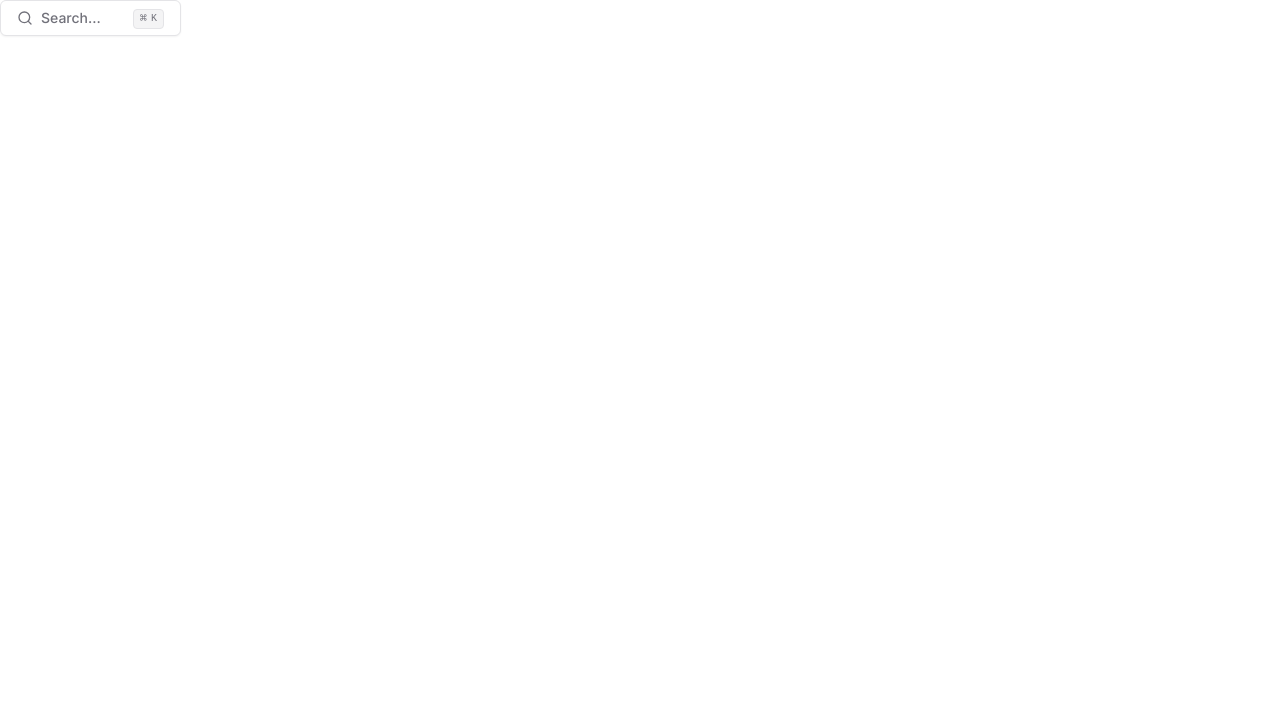
it: GlobalSearch › it displays different categories in the search results
This screenshot has width=1280, height=720.
Type keys "{Meta>}{k}{/Meta}"
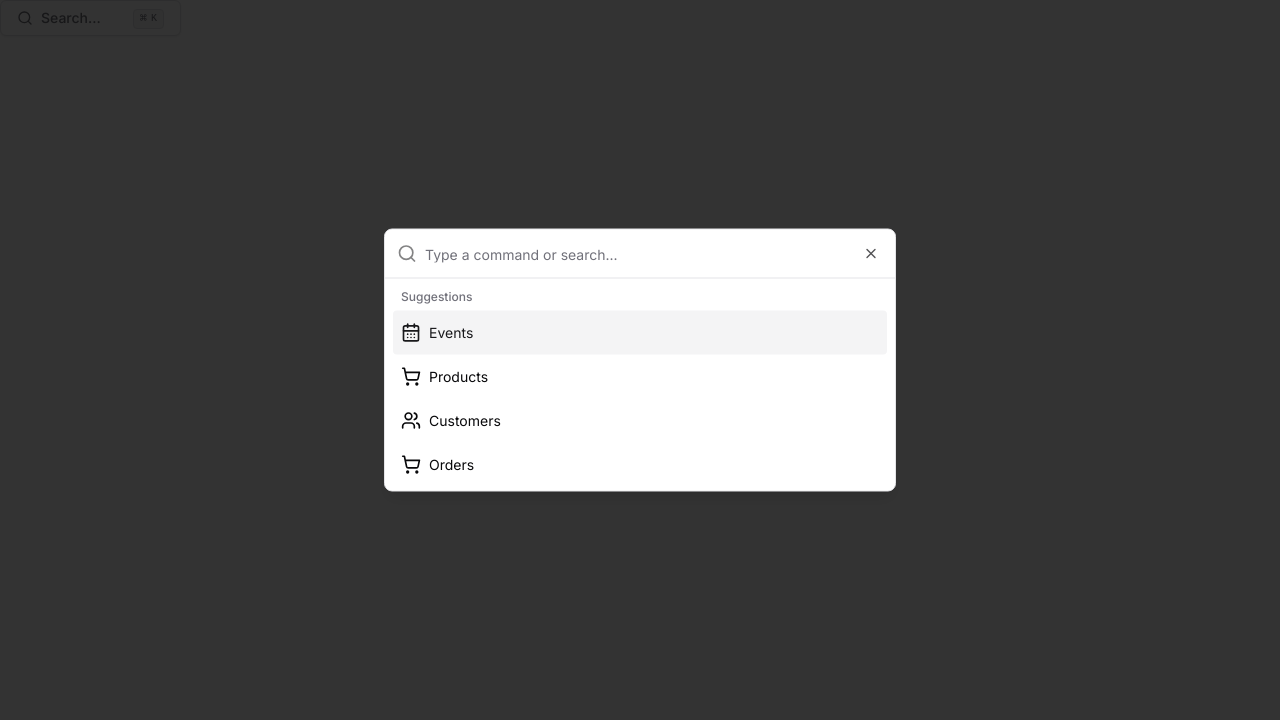
In the dropdown with placeholder "Type a command or search...": (654, 254) [425,230,883,278], type "show"
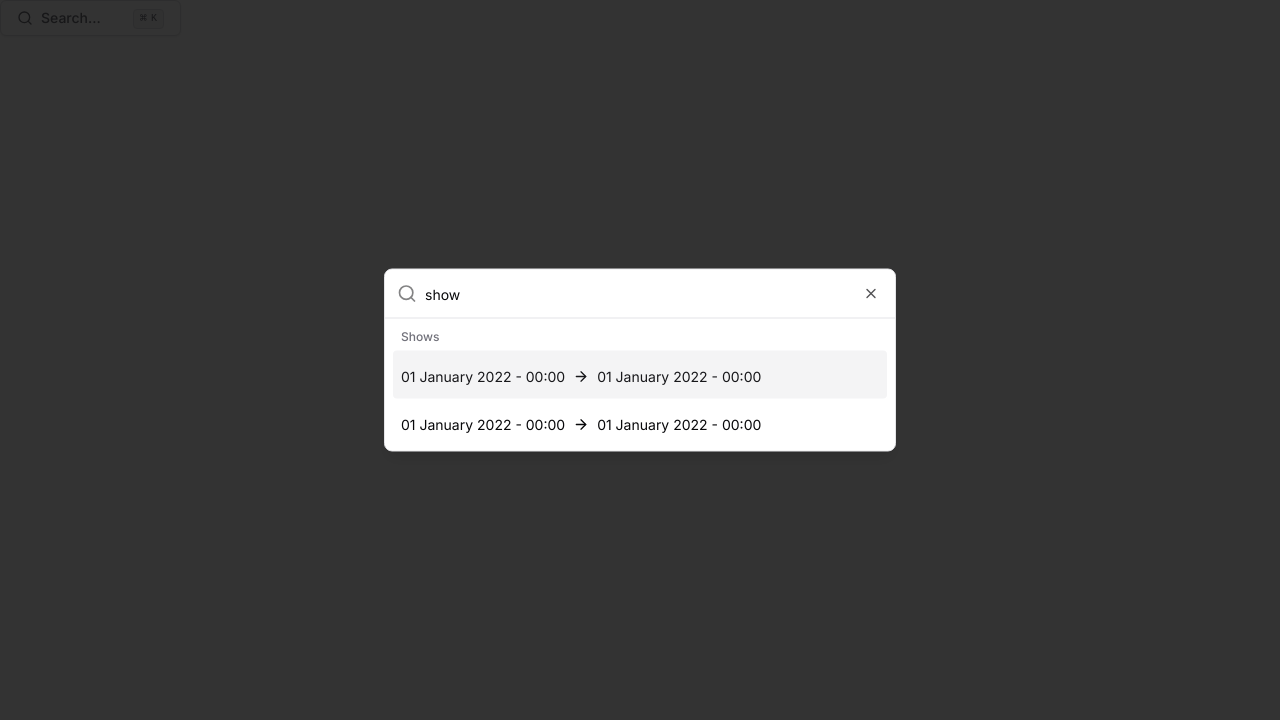
Result: the text "Shows" is shown at [401,328,439,344]
